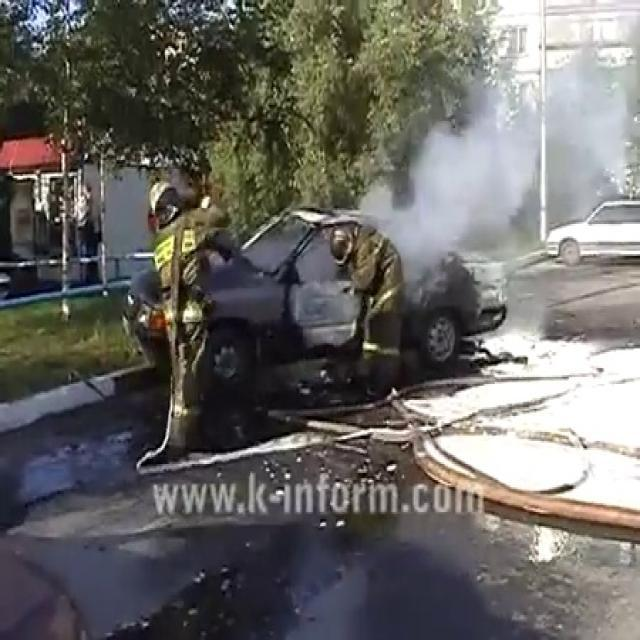Smoke: (378, 11, 639, 329), (196, 513, 634, 639)
